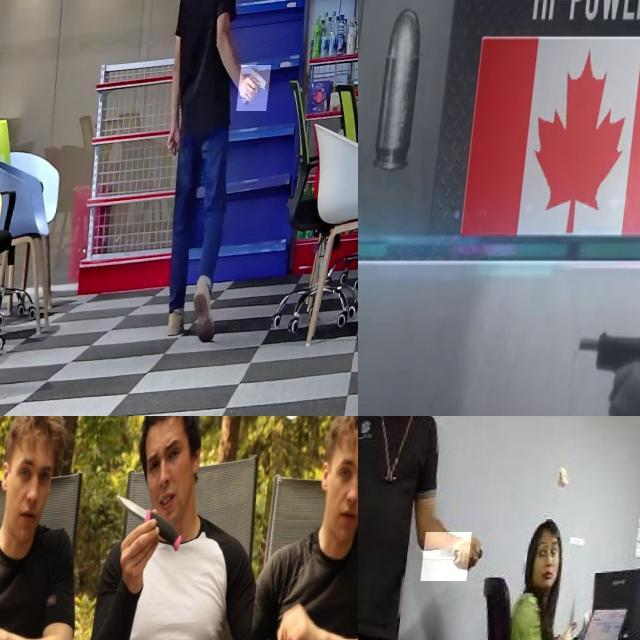-: (116, 489, 200, 559), (132, 416, 179, 483), (431, 532, 482, 581)
gun-knife-thesis - v11 Yolov5 augmented: (358, 287, 456, 416), (573, 308, 640, 416), (242, 65, 276, 111)
